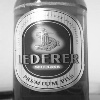beer: (12, 8, 90, 100)
